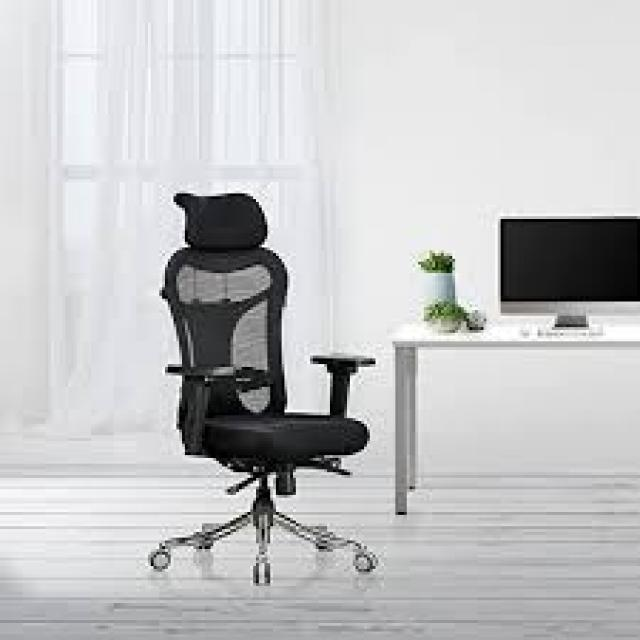chair: (145, 188, 385, 590)
